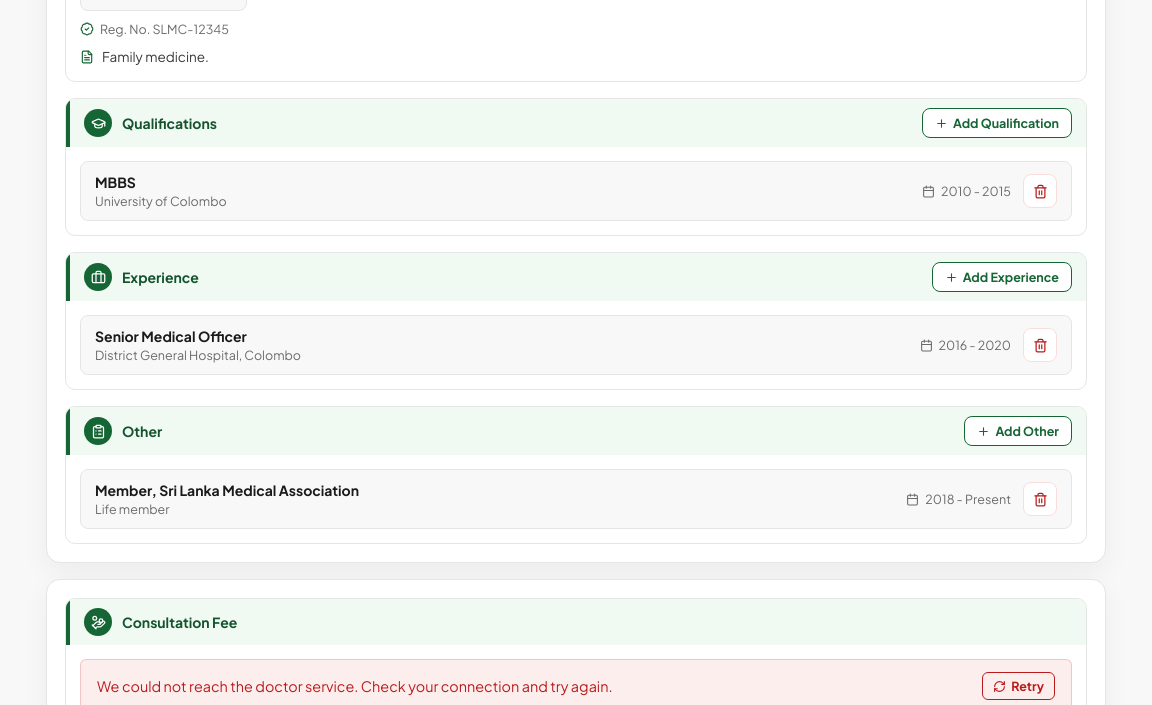
Scenario: DoctorProfilePage › deletes an experience entry from view mode after confirmation and saves immediately
(page scrolled)
Check: the text "Senior Medical Officer" is shown, box [95,327,247,345]
Click the button named "Remove Experience 1": (1040, 345) [1023,328,1057,362]
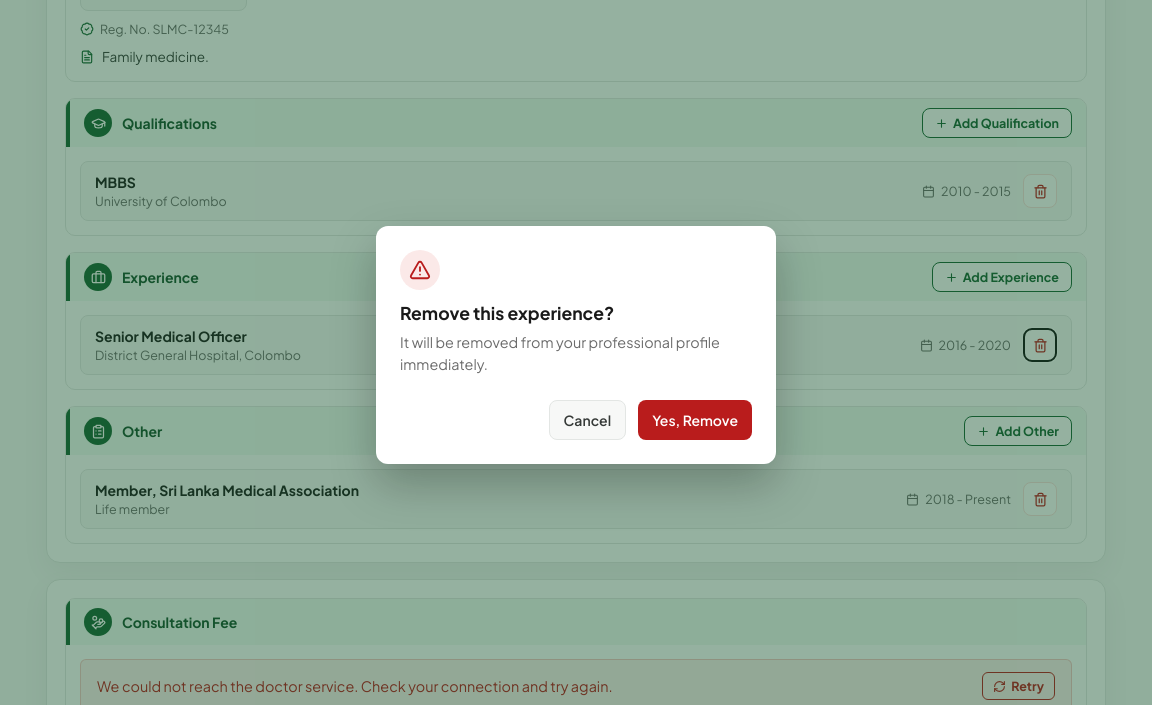
Click the button "Yes, Remove": (695, 420) [638,400,752,440]
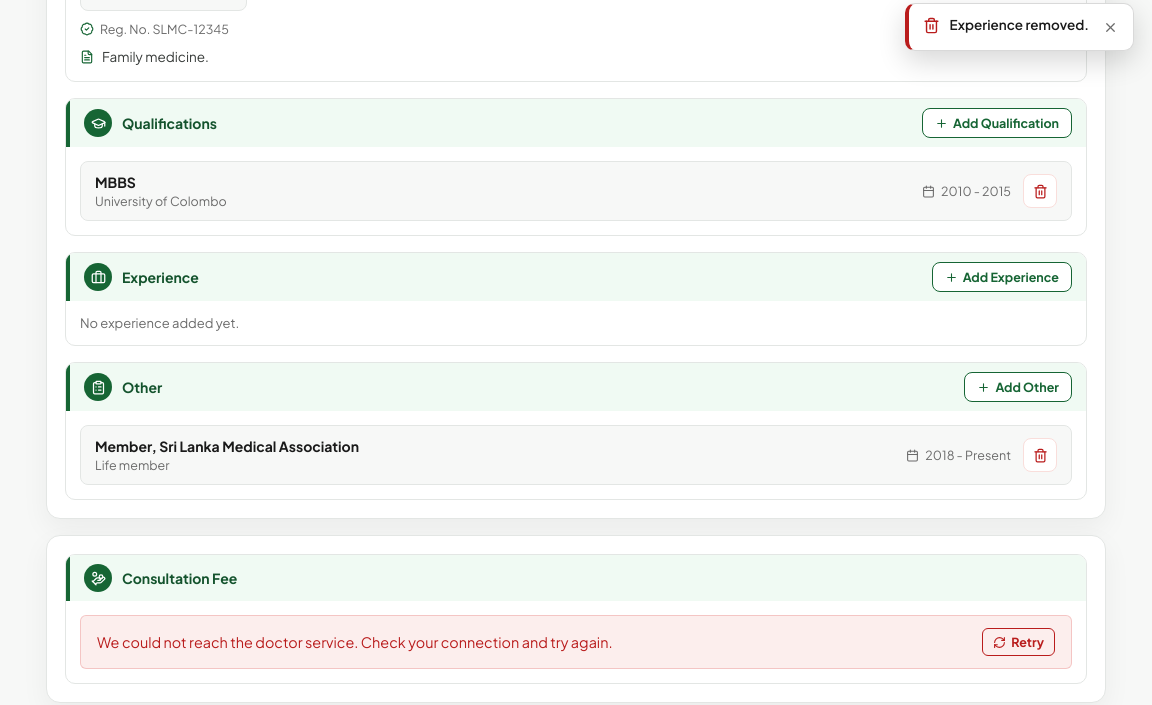
Check: the text "MBBS" is shown, box [95,173,136,191]
Check: the text "Experience removed." is shown, box [950,16,1089,33]
Check: the text "Senior Medical Officer" is gone
